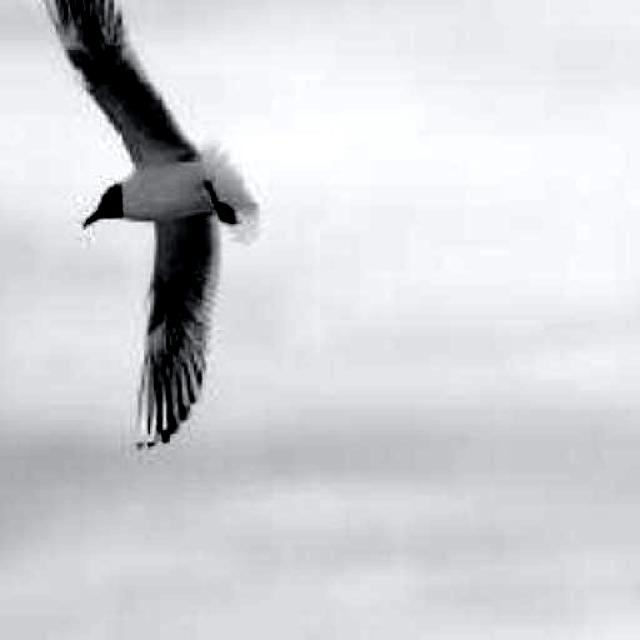airplane: (38, 0, 265, 451)
